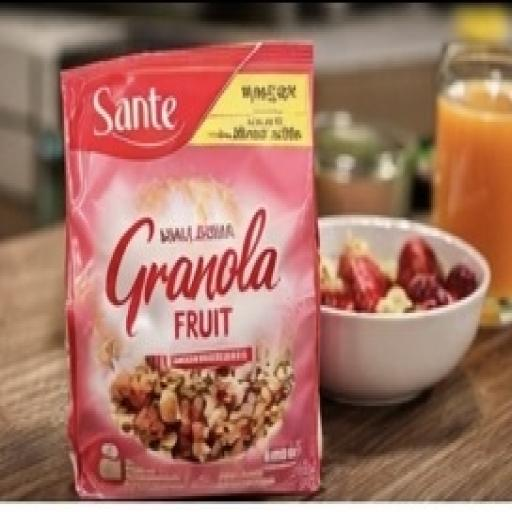granola: (50, 31, 395, 507)
